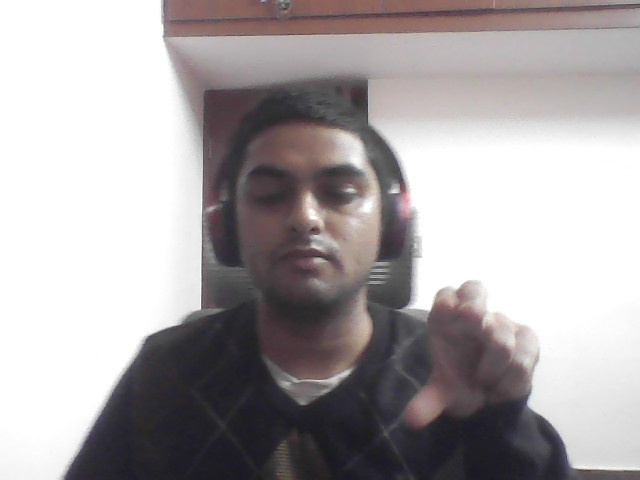No: (389, 256, 561, 461)
